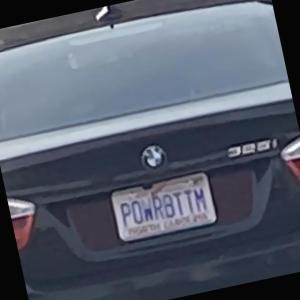Plate: (107, 171, 218, 244)
